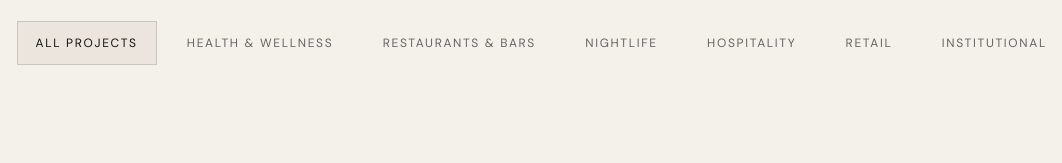
Test: Work list › shows an empty state when a filter matches nothing
Click the button "Nightlife": [622, 43] box left=566, top=21, right=677, bottom=65
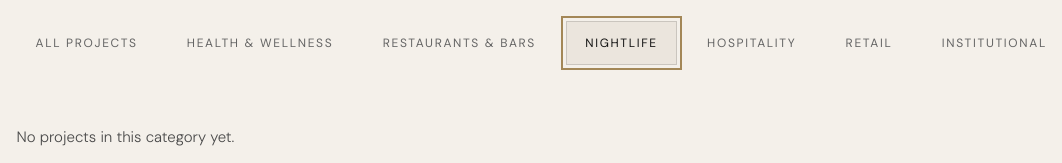
expect the text "No projects in this category yet." is shown: met, box left=16, top=127, right=234, bottom=147
